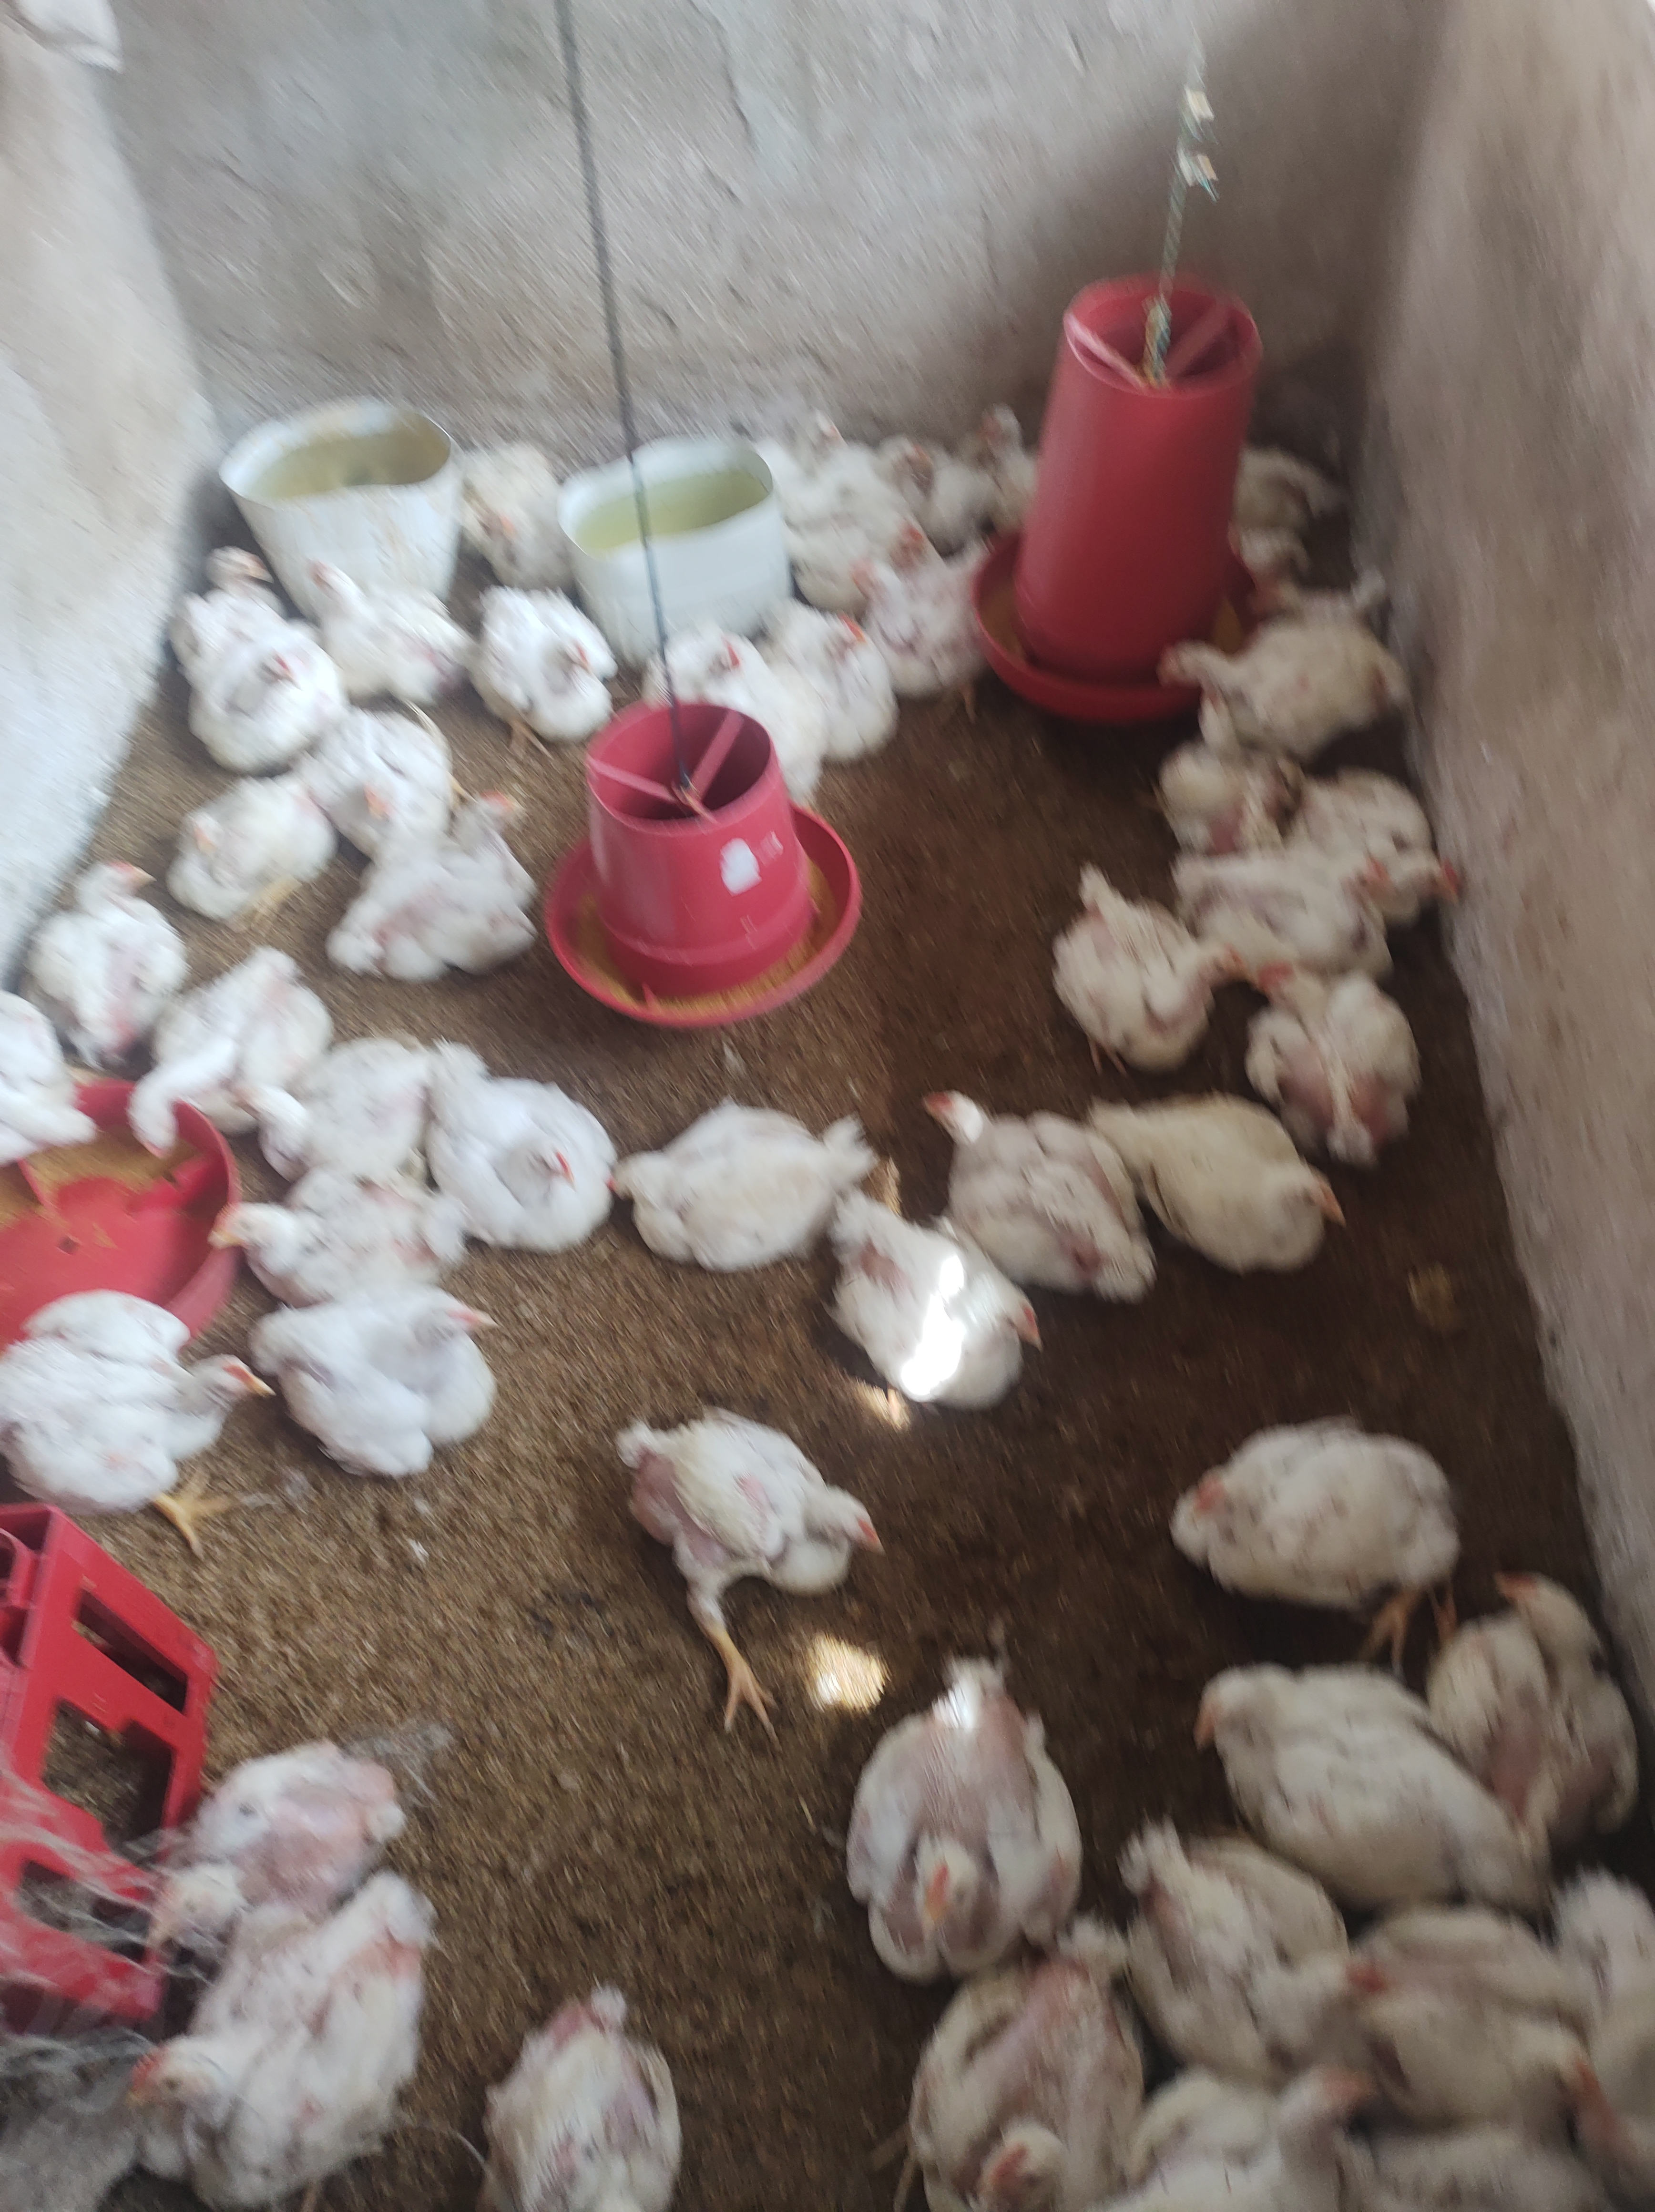Pollos: (97, 1906, 471, 2203), (1160, 1640, 1528, 1906), (581, 1388, 885, 1659), (847, 1652, 1071, 1965), (136, 1725, 410, 1979), (0, 1289, 256, 1560), (1403, 1556, 1634, 1852), (1196, 1388, 1459, 1629), (920, 1915, 1128, 2212), (807, 1174, 1045, 1421), (1366, 1864, 1594, 2120), (1120, 1817, 1347, 2068), (254, 1289, 511, 1502), (904, 1069, 1140, 1294), (1114, 1089, 1365, 1285), (593, 1096, 840, 1282), (501, 1969, 683, 2212), (1043, 847, 1234, 1078), (127, 948, 318, 1172), (419, 1033, 621, 1240), (240, 1003, 454, 1188), (1156, 2031, 1373, 2212), (1140, 603, 1422, 741), (1246, 951, 1415, 1139), (212, 1167, 450, 1292), (33, 845, 193, 1029), (1561, 1887, 1655, 2179), (158, 783, 342, 929), (859, 551, 1015, 722), (299, 556, 483, 699), (475, 590, 629, 753), (316, 703, 464, 868), (0, 958, 97, 1209), (440, 433, 596, 586), (1111, 727, 1309, 843), (1396, 2092, 1592, 2209), (162, 623, 344, 744), (765, 603, 902, 756), (429, 798, 541, 986), (1278, 816, 1392, 943), (643, 628, 777, 734), (1234, 435, 1365, 534), (977, 402, 1093, 490), (1392, 842, 1479, 937), (193, 537, 294, 612), (876, 433, 968, 511), (890, 511, 946, 590), (781, 412, 854, 466)
